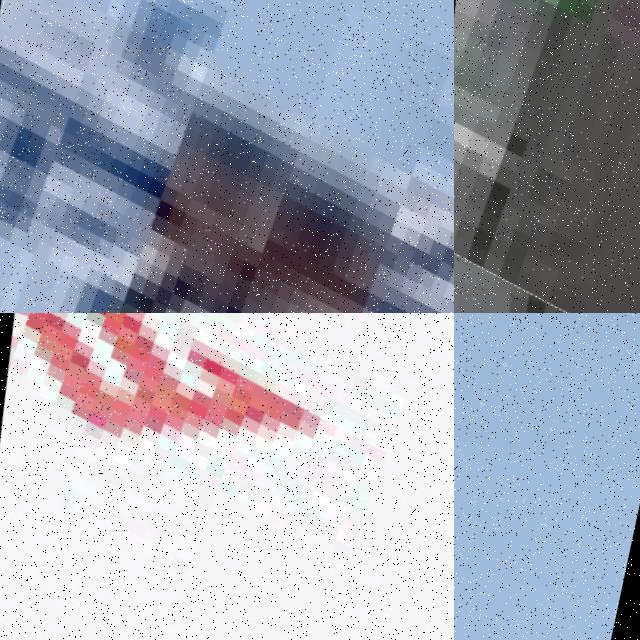drone: (0, 313, 454, 640), (0, 0, 454, 313), (454, 0, 640, 313)
